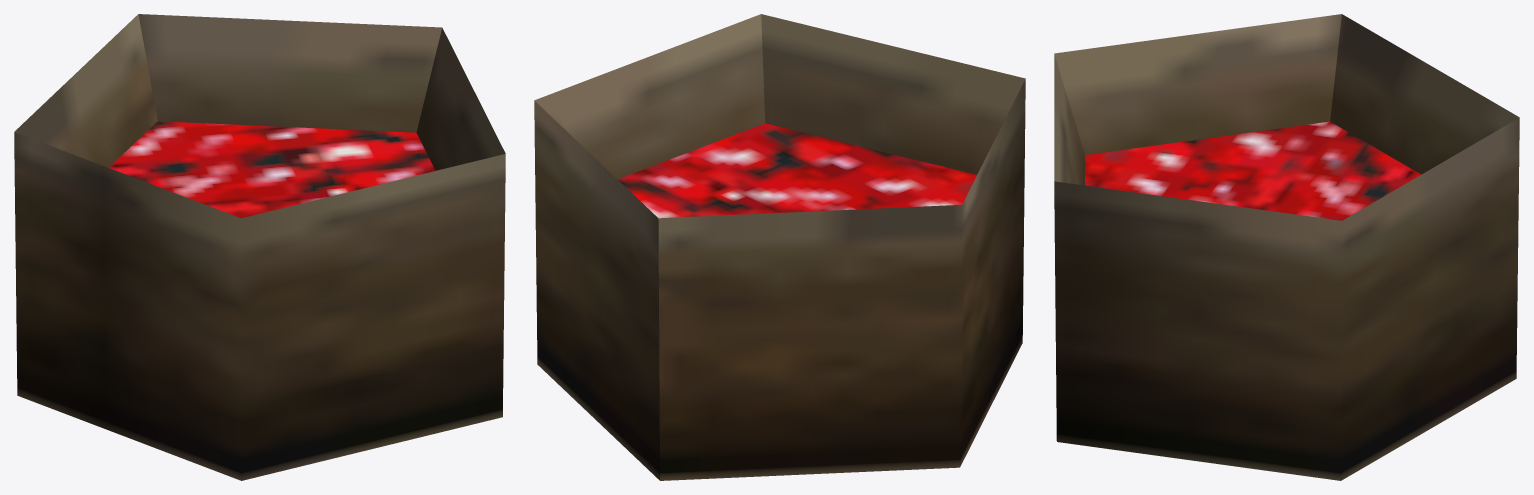
File: food_apples.glb
The picture shows the model from 3 angles, left to right: view 1: azimuth 30°, elevation 25°; view 2: azimuth 150°, elevation 25°; view 3: azimuth 270°, elevation 25°; orthographic projection.
Parts seen in each view (by area): view 1: apple_01.001; view 2: apple_01.001; view 3: apple_01.001.
Boxes of the visible parts, x1=… form: apple_01.001: x1=14, y1=14, x2=505, y2=480; apple_01.001: x1=534, y1=14, x2=1025, y2=480; apple_01.001: x1=1054, y1=14, x2=1519, y2=480.
Size of the model in its own units: 60.15 by 35.44 by 57.21.
1 material, 1 textured.
